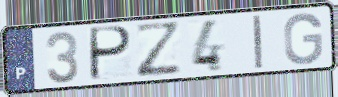3: (45, 30, 80, 85)
4: (187, 18, 228, 74)
G: (282, 11, 325, 67)
I: (251, 14, 265, 71)
P: (88, 25, 134, 83)
Z: (132, 20, 185, 80)
